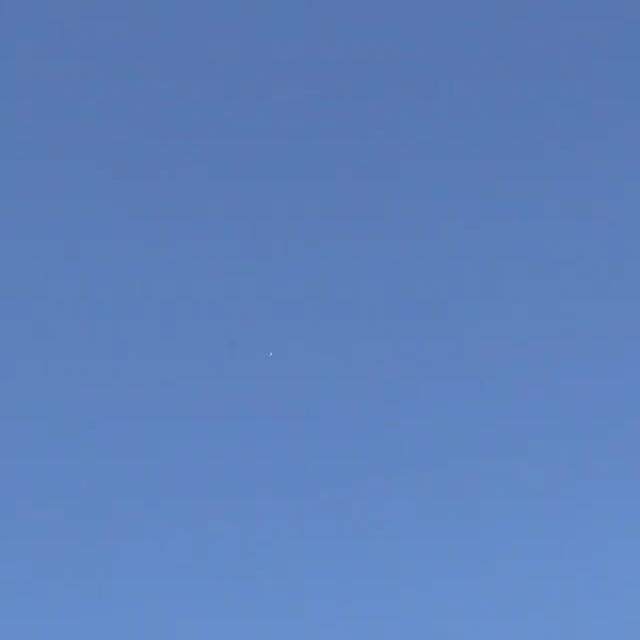AirPlane: (260, 338, 282, 374)
